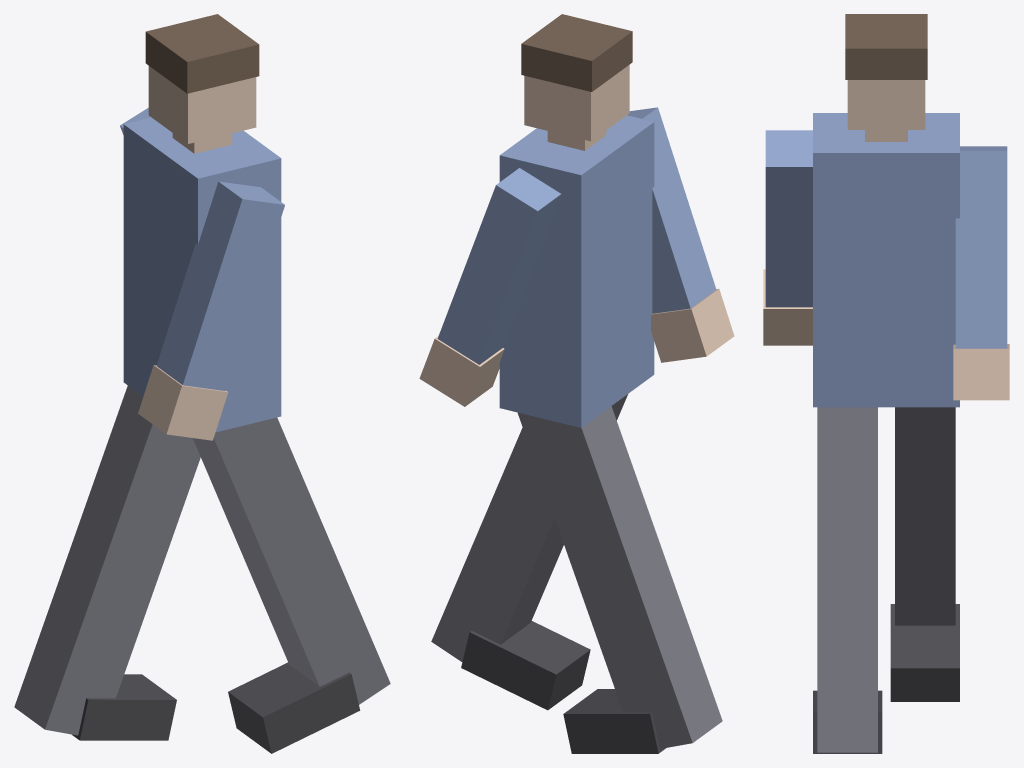
The model's file is SM_WbPed2_2.glb.
The picture shows the model from 3 angles, left to right: view 1: azimuth 30°, elevation 25°; view 2: azimuth 150°, elevation 25°; view 3: azimuth 270°, elevation 25°; orthographic projection. The views are drawn at different scales.
Parts seen in each view (by area): view 1: SM_WbPed2_2; view 2: SM_WbPed2_2; view 3: SM_WbPed2_2.
Boxes of the visible parts, <box> form: SM_WbPed2_2: <box>14,14,390,753</box>; SM_WbPed2_2: <box>419,14,734,753</box>; SM_WbPed2_2: <box>763,14,1009,753</box>.
Bounding box in the file's own units: 0.8077 × 1.75 × 0.57.
